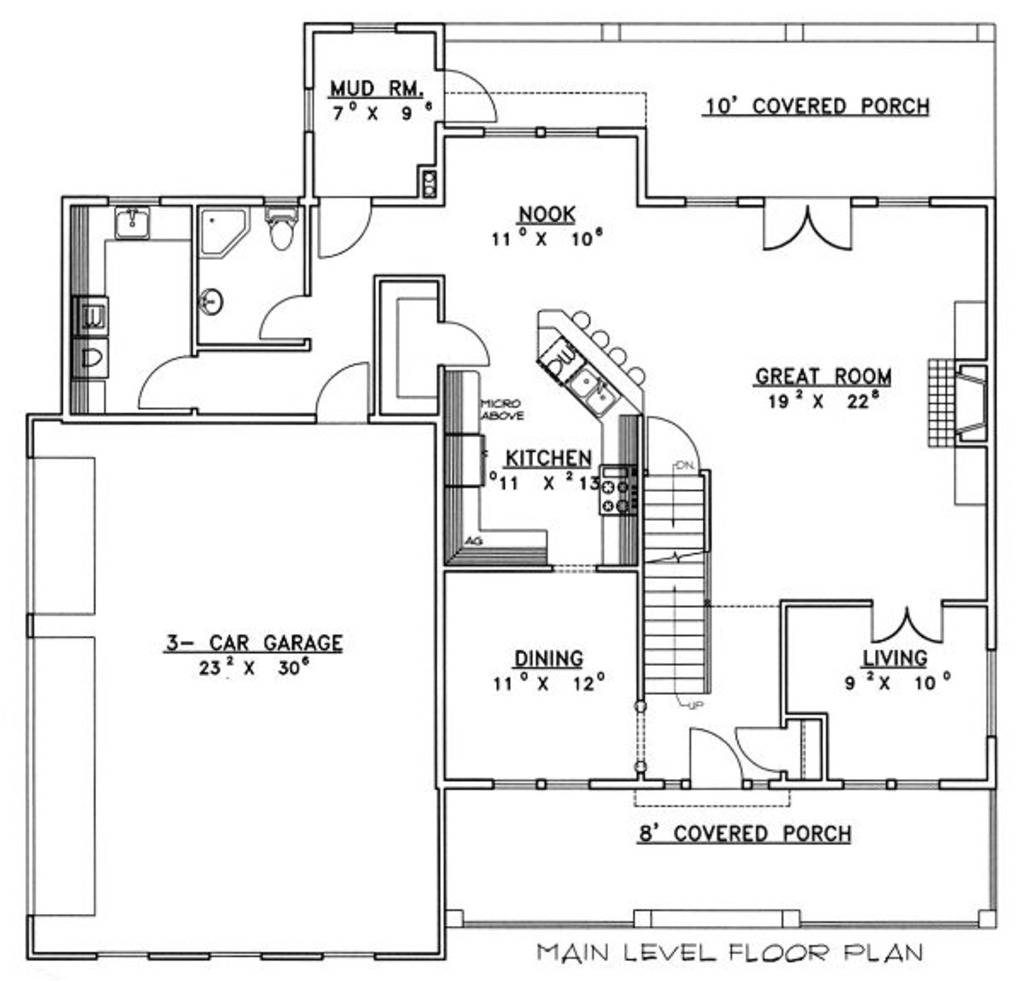door: (752, 191, 863, 257), (719, 713, 819, 785), (855, 590, 957, 658), (311, 346, 372, 426), (313, 193, 381, 264), (441, 61, 507, 129), (685, 722, 750, 790), (129, 355, 199, 413), (257, 291, 320, 354), (434, 311, 496, 372), (643, 413, 702, 466)
kitchen_bar: (519, 293, 647, 417)
large_sink: (255, 191, 300, 252)
small_sink: (187, 282, 232, 326)
stairs: (641, 463, 723, 704)
twin_sink: (561, 358, 617, 414)
